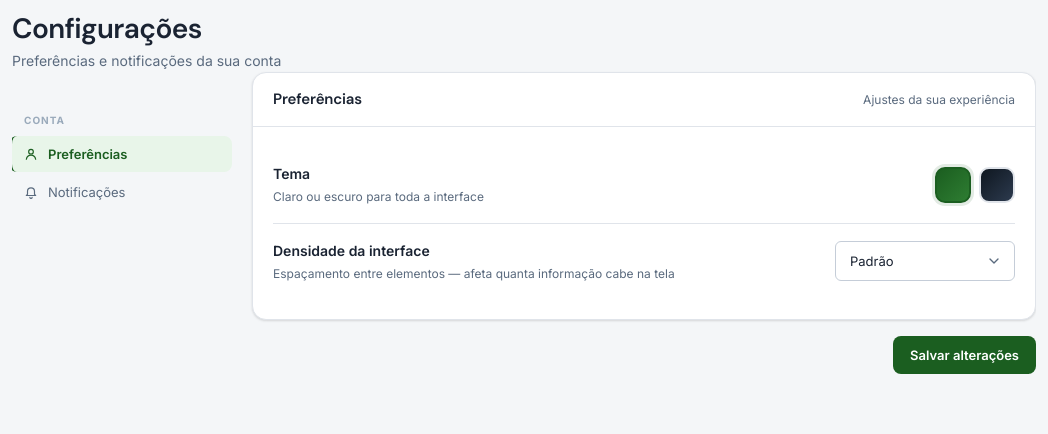
Configuracoes › mantém a seleção do usuário quando salvar falha
Expected: the text "Densidade da interface" is shown, [273,242,430,259]
Step 1. Select "Compacto" in the dropdown → (925, 261), box [835,241,1015,281]
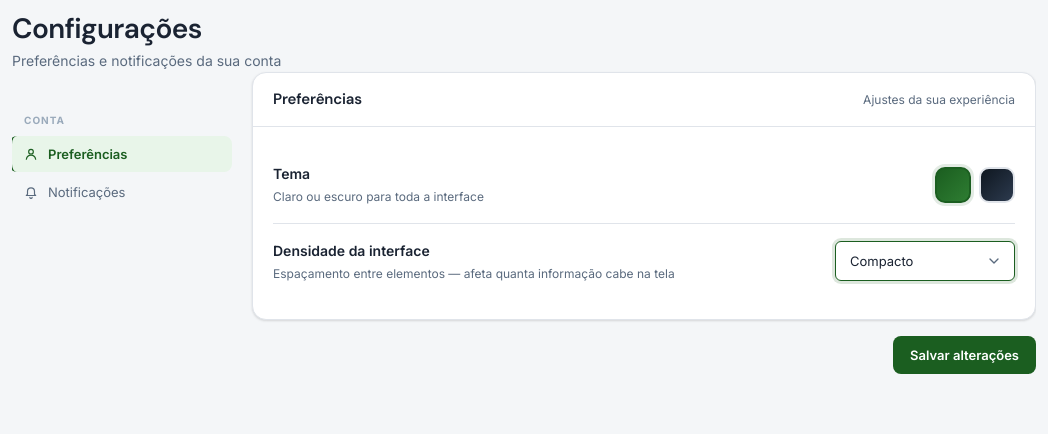
Step 2. Click the button "Salvar alterações" → (965, 355), box [893,336,1036,374]
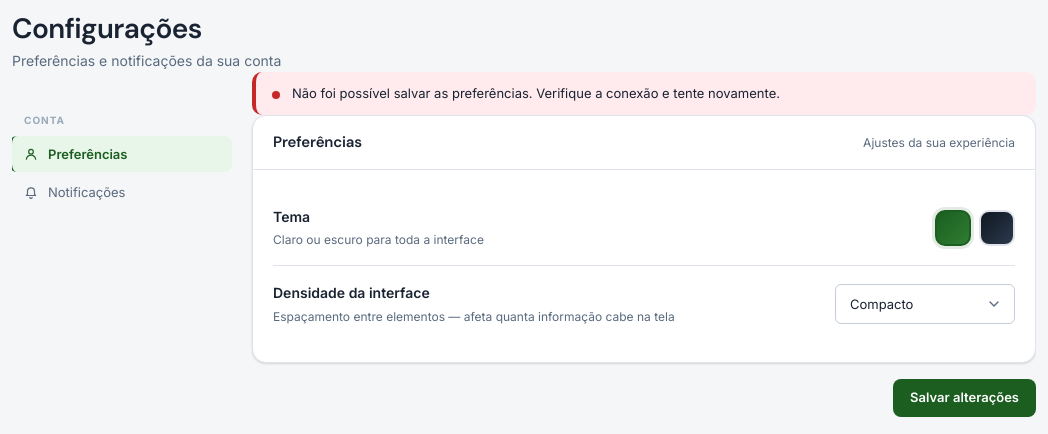
Expected: the text "Não foi possível salvar" is shown, [292,85,780,101]
